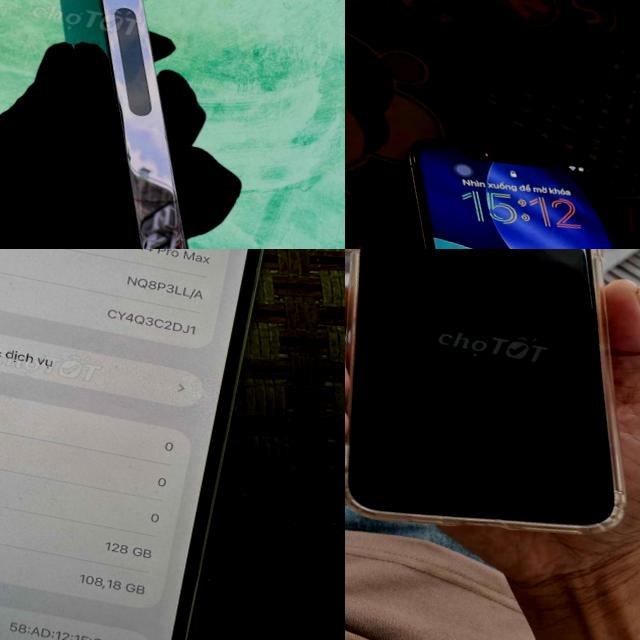gen_12_13: (345, 106, 640, 249)
gen_14: (0, 249, 291, 640), (0, 0, 327, 249)
gen_x_xs: (345, 249, 640, 583)
